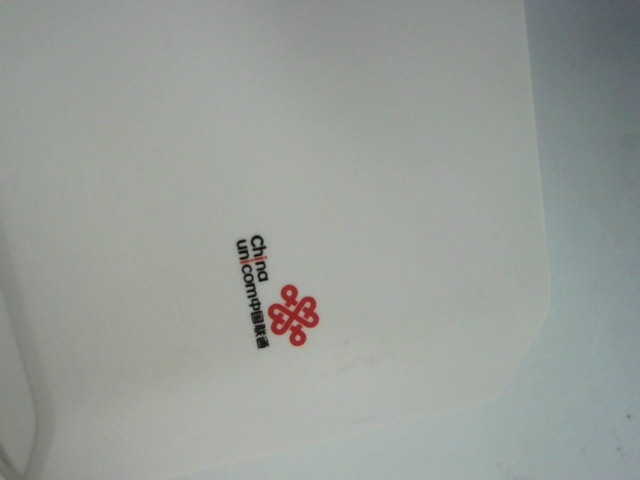AC_ChinaUnicom: (218, 227, 337, 353)
